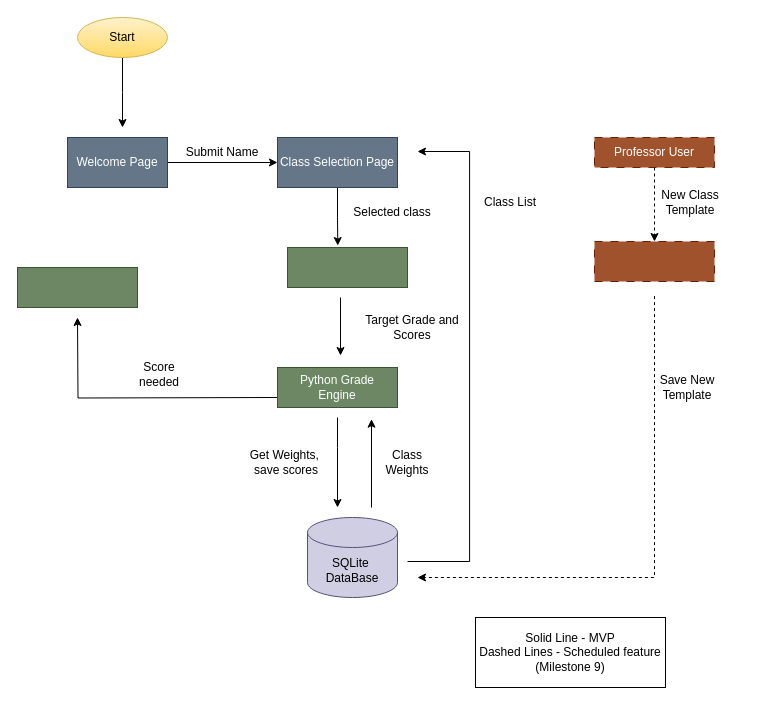
This 763x705 diagram has some shape labels left out. Here are the shapes that lost their labels. From the top down, the centre of each, then its label:
At point 347,267: "Mode and Score Entry Page".
At point 654,261: "Add Class Template Form".
At point 77,287: "Results Page".
